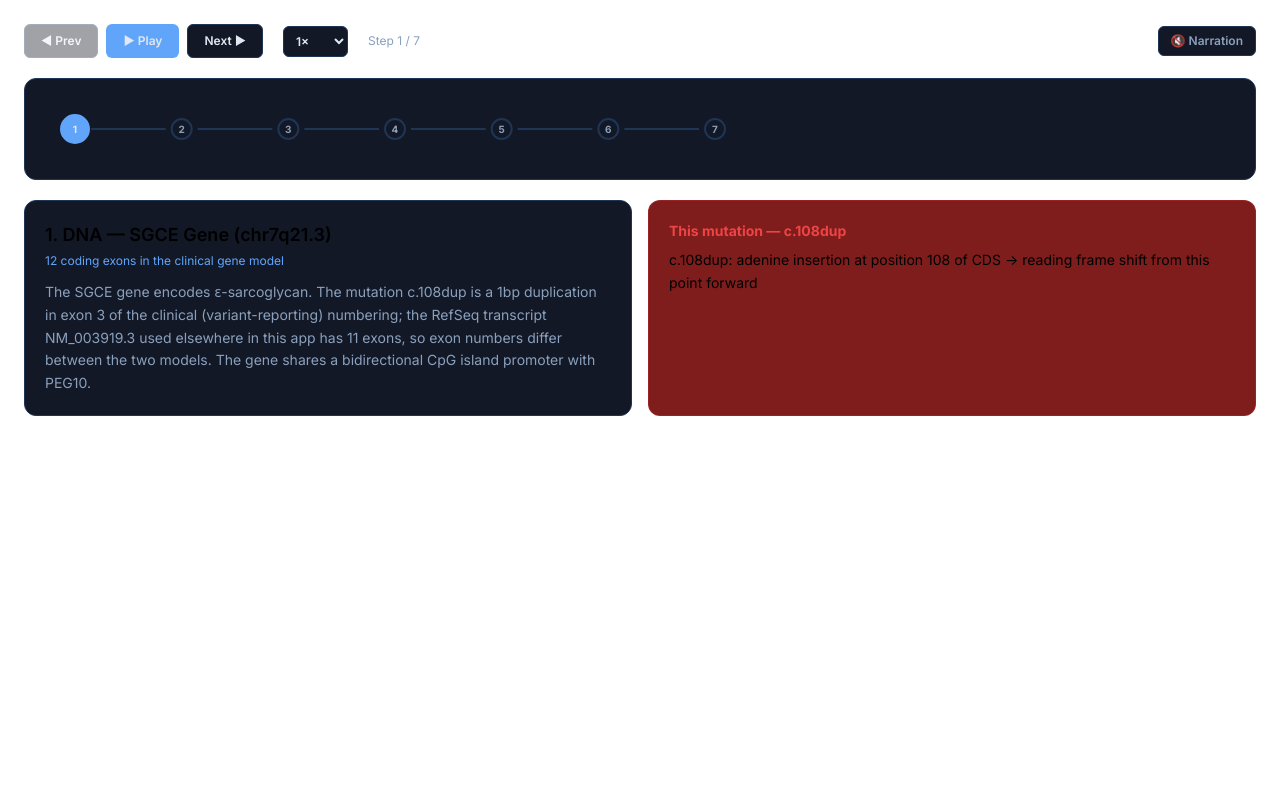
Scenario: CentralDogma › autoplay with fake timers › stops at last step and resets playing to false
Click the button "Next ▶". click: point(225, 41)
box: top-left (187, 24), bottom-right (263, 58)
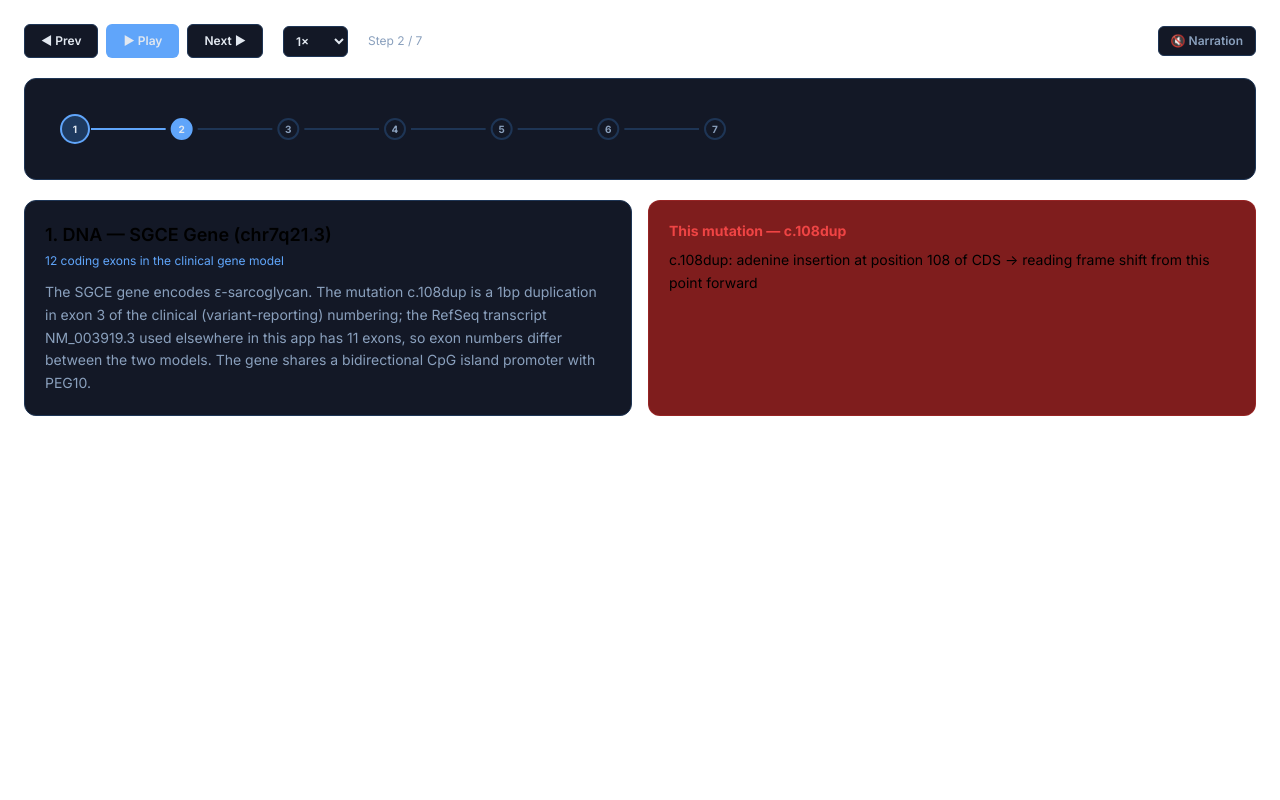
Click the button "Next ▶". click: point(225, 41)
box: top-left (187, 24), bottom-right (263, 58)
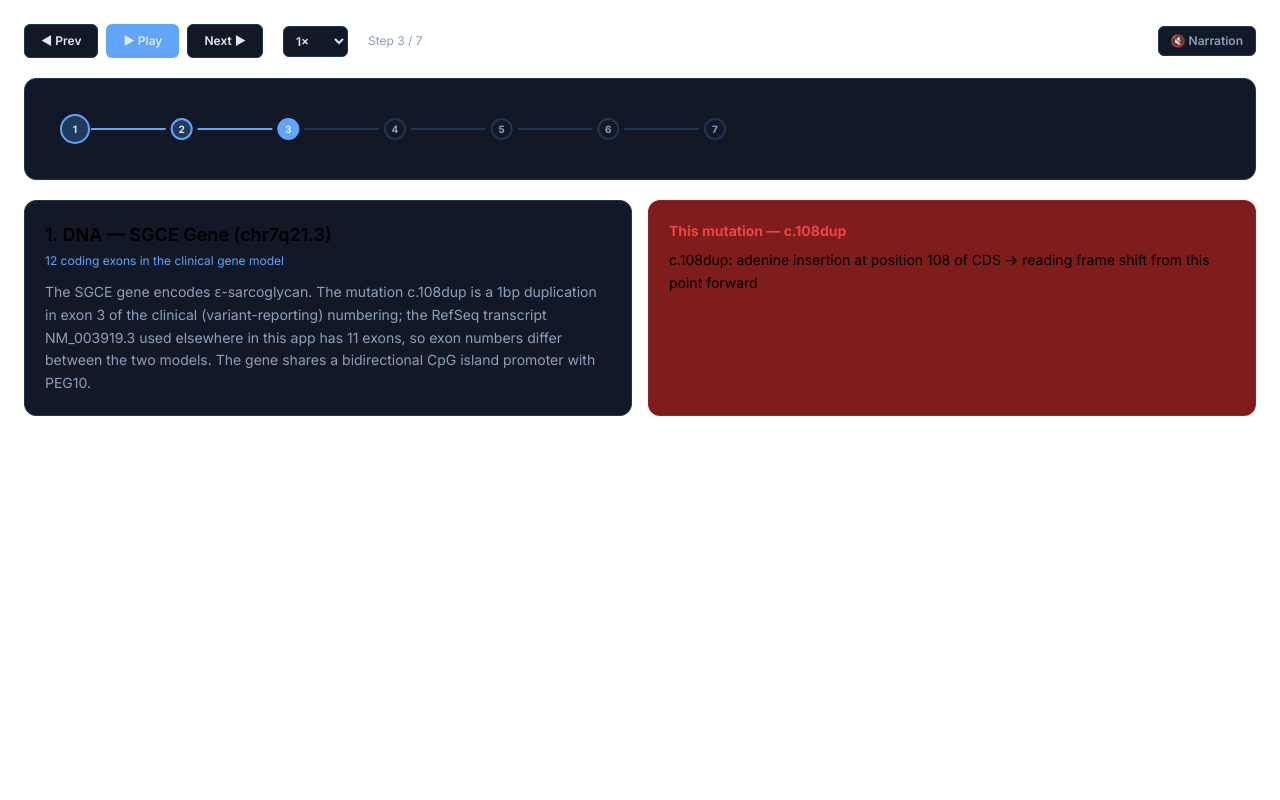
Click the button "Next ▶". click: point(225, 41)
box: top-left (187, 24), bottom-right (263, 58)
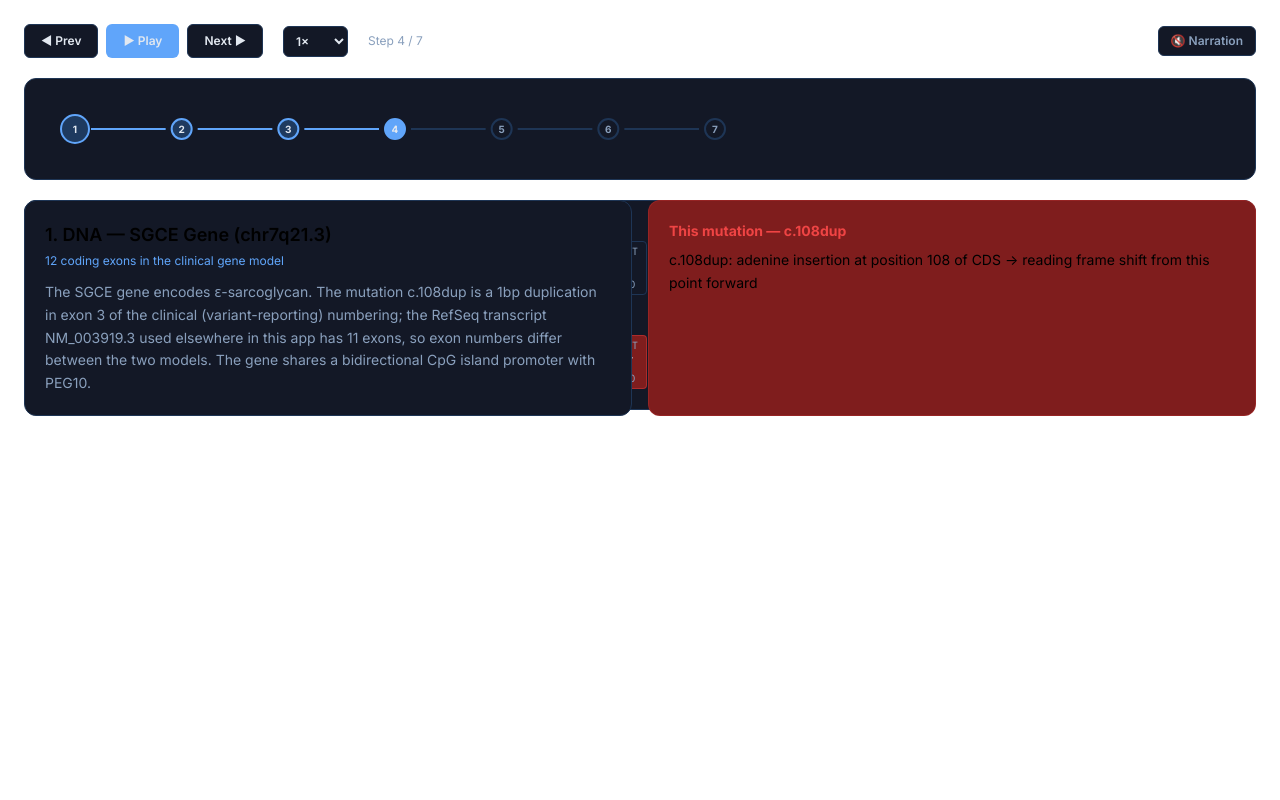
Click the button "Next ▶". click: point(225, 41)
box: top-left (187, 24), bottom-right (263, 58)
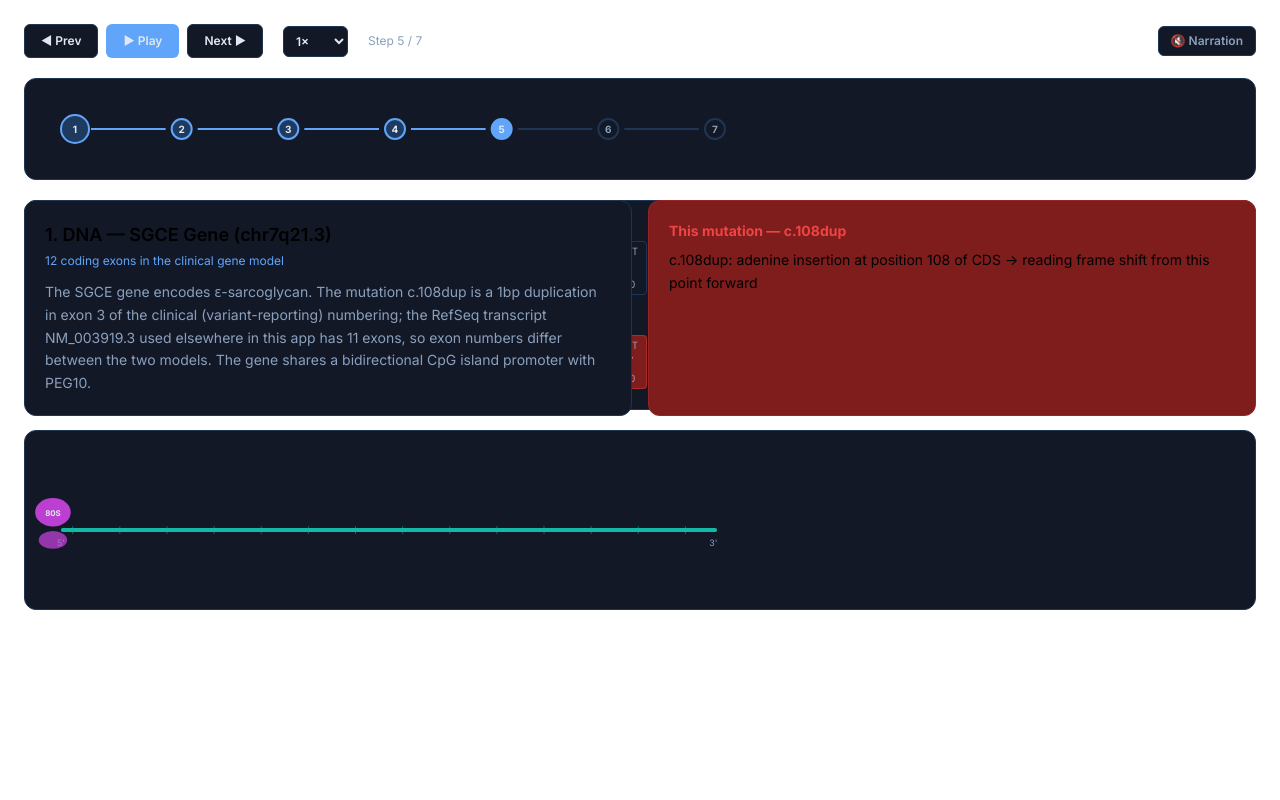
Click the button "Next ▶". click: point(225, 41)
box: top-left (187, 24), bottom-right (263, 58)
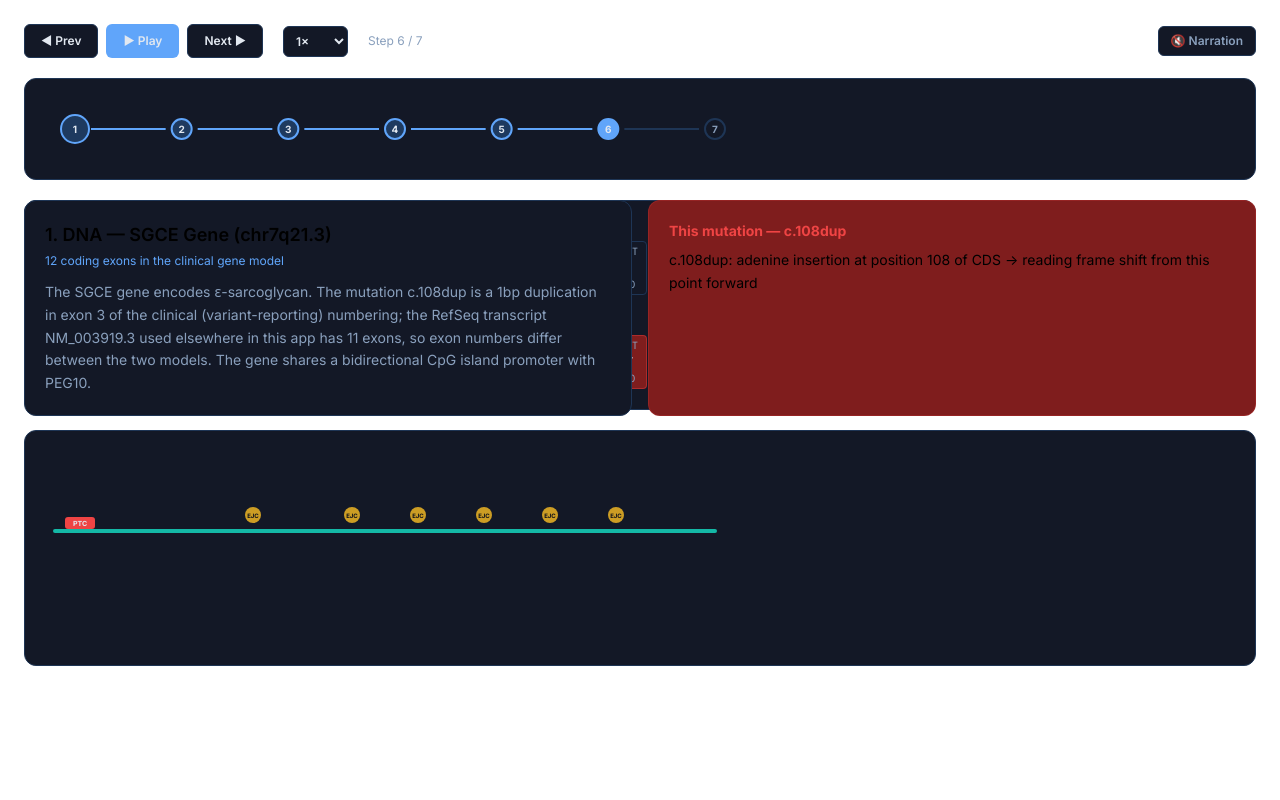
Result: the text "Step 6 / 7" is shown at top-left (368, 33), bottom-right (423, 49)
Click the button "▶ Play". click: point(143, 41)
box: top-left (106, 24), bottom-right (180, 58)
Wait 12000 ms
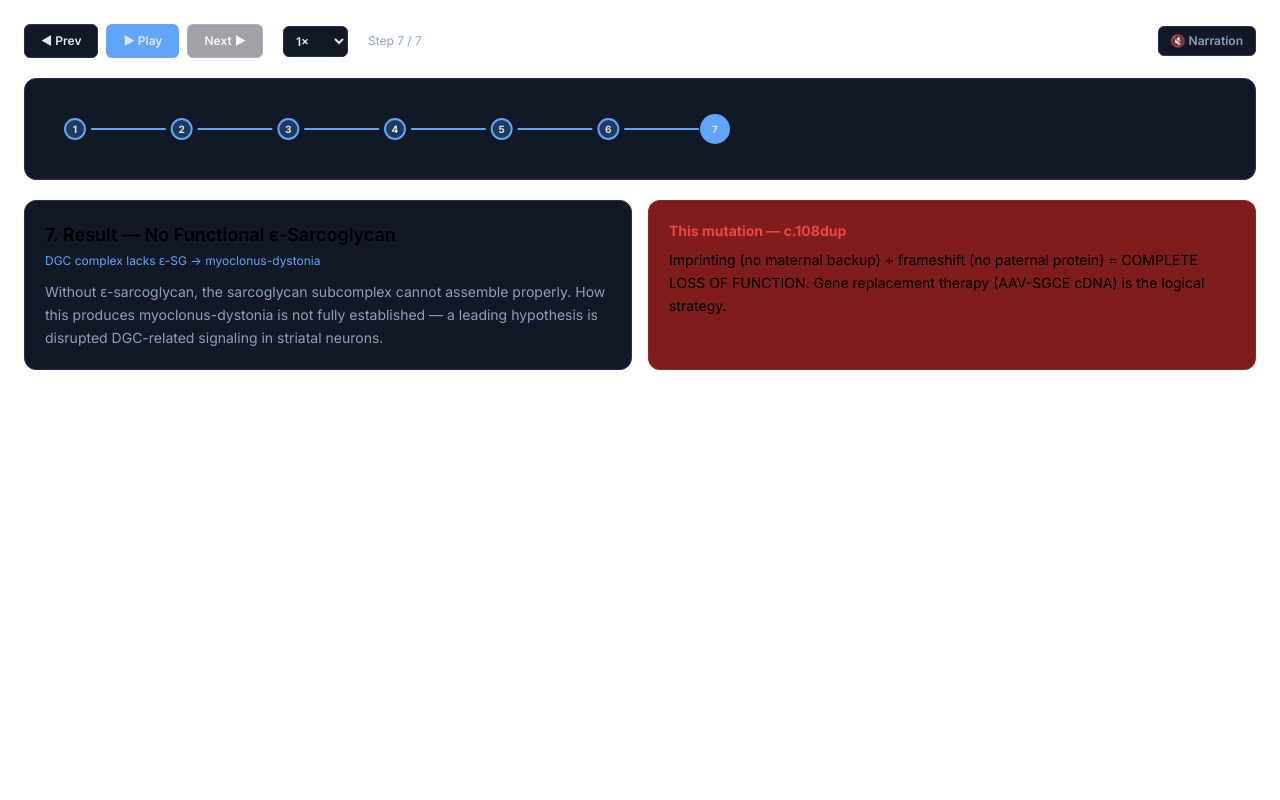
Result: the text "Step 7 / 7" is shown at top-left (368, 33), bottom-right (422, 49)
